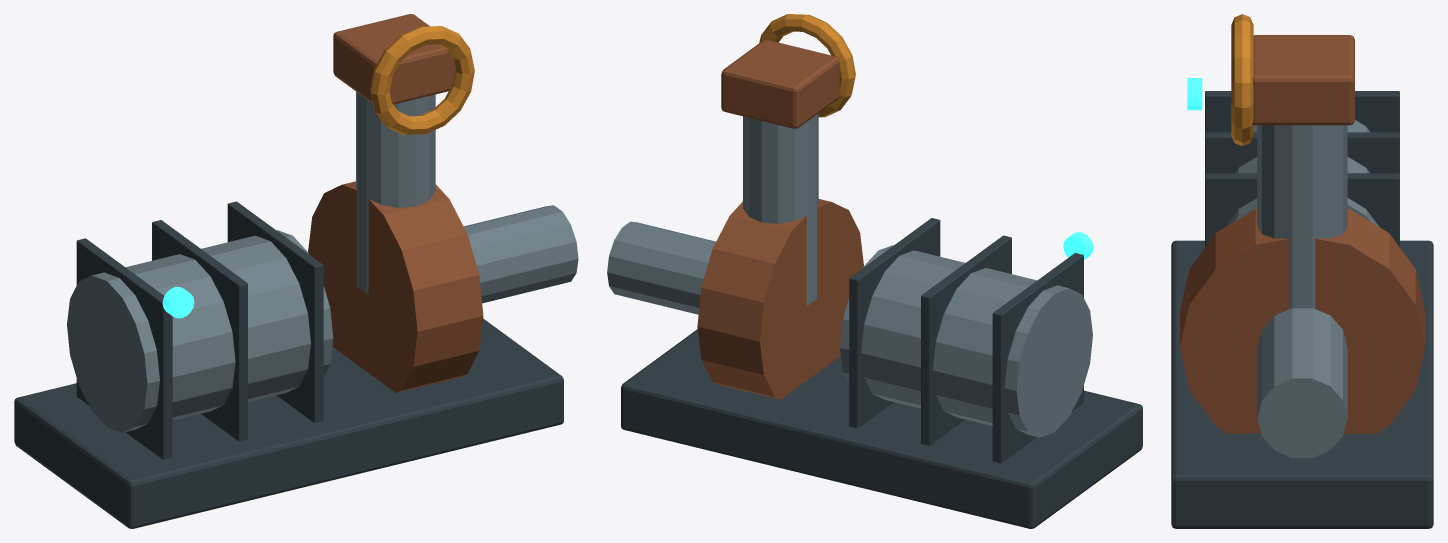
The model's file is pump_assembly.glb.
3 views of the same model, side by side, from view 1: azimuth 30°, elevation 25°; view 2: azimuth 150°, elevation 25°; view 3: azimuth 270°, elevation 25° (orthographic). The views are drawn at different scales.
Visible parts, largest first — view 1: Pump skid, Pump motor, Pump housing, Pipe outlet, Pipe intake, Pump valve body, Motor cooling fin, Motor cooling fin.002, Valve wheel, Motor cooling fin.001, Pump status lamp; view 2: Pump skid, Pump motor, Pump housing, Pipe outlet, Pump valve body, Pipe intake, Motor cooling fin, Motor cooling fin.002, Motor cooling fin.001, Valve wheel; view 3: Pump housing, Pump skid, Pipe outlet, Pipe intake, Pump valve body, Motor cooling fin.002, Motor cooling fin.001, Motor cooling fin, Valve wheel, Pump motor, Pump status lamp.
Boxes of the visible parts, <box> form: Pump skid: <box>14,318,563,528</box>; Pump motor: <box>67,230,333,432</box>; Pump housing: <box>308,181,483,392</box>; Pipe outlet: <box>356,91,435,293</box>; Pipe intake: <box>463,205,578,303</box>; Pump valve body: <box>333,14,455,104</box>; Motor cooling fin: <box>76,238,172,459</box>; Motor cooling fin.002: <box>227,201,323,422</box>; Valve wheel: <box>370,26,474,134</box>; Motor cooling fin.001: <box>152,220,247,441</box>; Pump status lamp: <box>162,287,194,318</box>; Pump skid: <box>621,329,1142,528</box>; Pump motor: <box>840,245,1092,437</box>; Pump housing: <box>697,199,863,399</box>; Pipe outlet: <box>743,113,818,305</box>; Pump valve body: <box>721,40,839,128</box>; Pipe intake: <box>607,221,715,314</box>; Motor cooling fin: <box>992,253,1083,463</box>; Motor cooling fin.002: <box>849,218,940,428</box>; Motor cooling fin.001: <box>921,235,1011,445</box>; Valve wheel: <box>759,14,855,117</box>; Pump housing: <box>1180,209,1424,433</box>; Pump skid: <box>1171,240,1433,528</box>; Pipe outlet: <box>1257,125,1347,308</box>; Pipe intake: <box>1257,308,1347,458</box>; Pump valve body: <box>1252,35,1354,125</box>; Motor cooling fin.002: <box>1205,173,1399,247</box>; Motor cooling fin.001: <box>1205,132,1399,173</box>; Motor cooling fin: <box>1205,91,1399,132</box>; Valve wheel: <box>1231,14,1253,146</box>; Pump motor: <box>1226,120,1378,226</box>; Pump status lamp: <box>1187,78,1202,110</box>.
Size of the model in its own units: 2.51 by 1.99 by 1.05.
